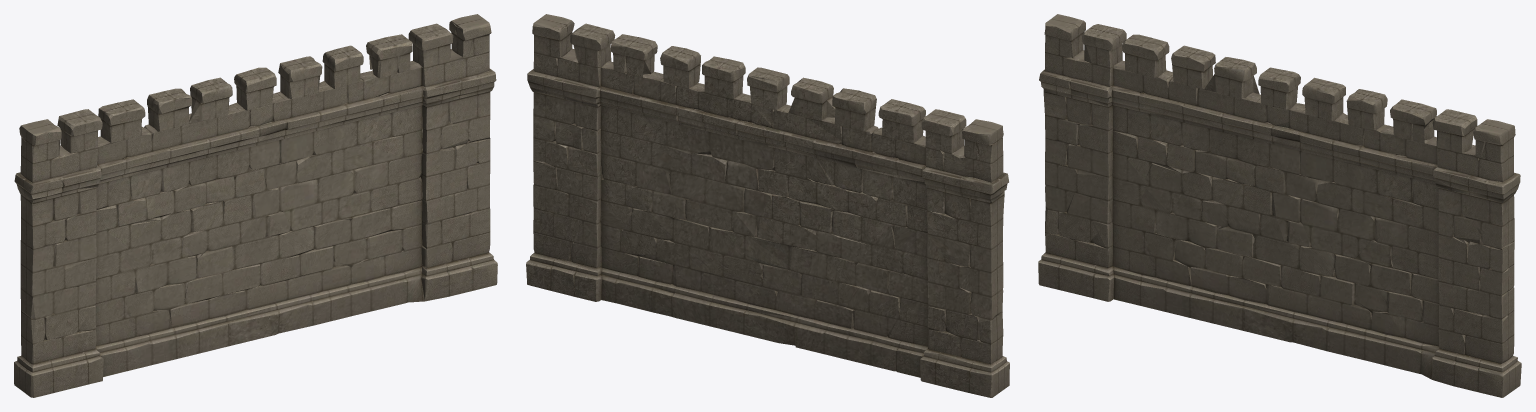
File: wall_segment.glb
3 views of the same model, side by side, from view 1: azimuth 30°, elevation 25°; view 2: azimuth 150°, elevation 25°; view 3: azimuth 330°, elevation 25° (orthographic).
Parts seen in each view (by area): view 1: output_unwrapped; view 2: output_unwrapped; view 3: output_unwrapped.
Part boxes in pixels (x1=…): output_unwrapped: x1=14, y1=14, x2=497, y2=397; output_unwrapped: x1=526, y1=14, x2=1009, y2=397; output_unwrapped: x1=1038, y1=14, x2=1521, y2=397.
Bounding box in the file's own units: 1.9 × 1.02 × 0.1349.
1 material, 1 textured.
